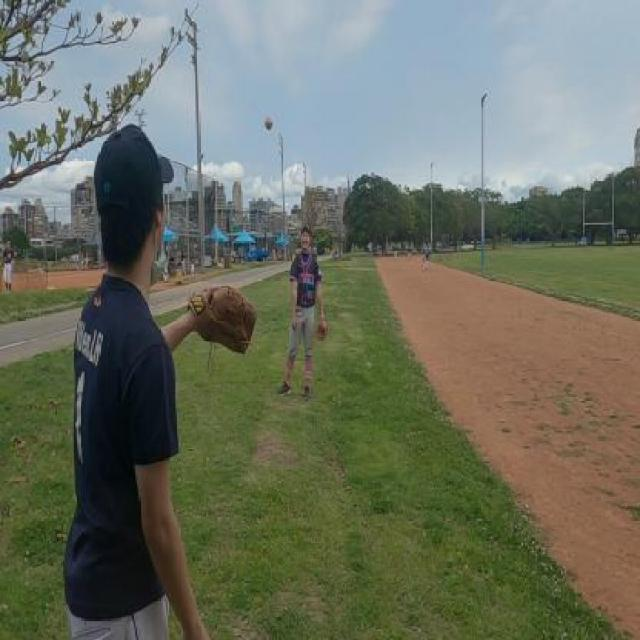baseball: (264, 115, 273, 131)
